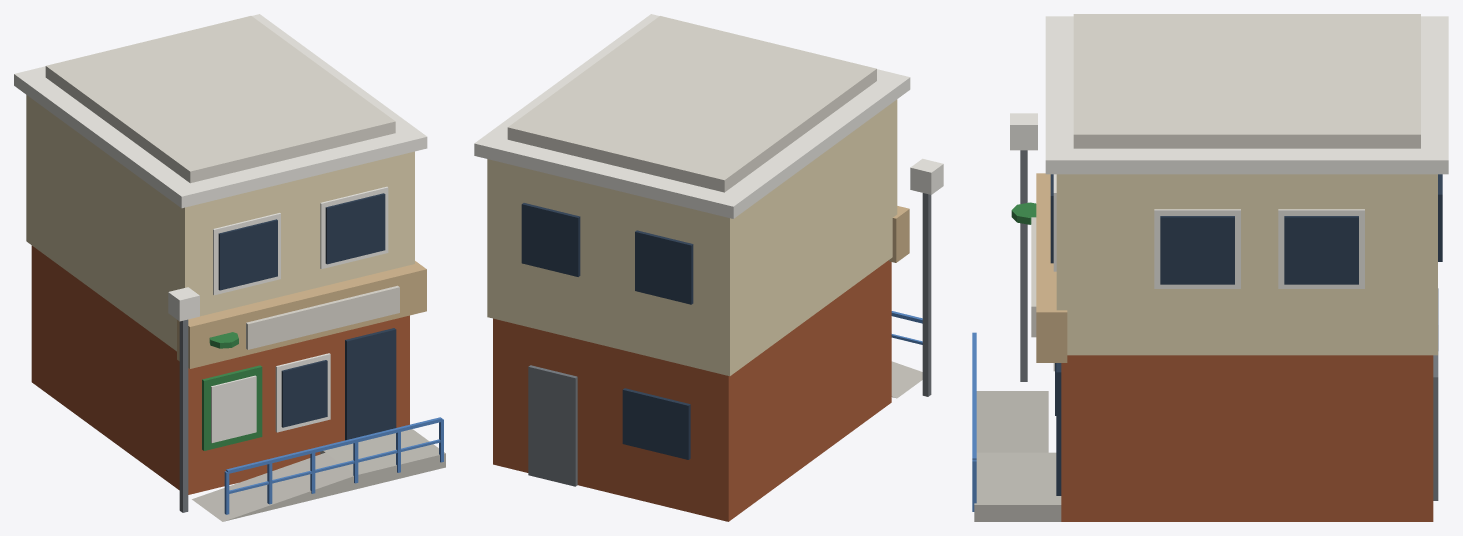
The model's file is LM_BarangayOutpost.glb.
The picture shows the model from 3 angles, left to right: view 1: azimuth 30°, elevation 25°; view 2: azimuth 150°, elevation 25°; view 3: azimuth 270°, elevation 25°; orthographic projection. The views are drawn at different scales.
Parts seen in each view (by area): view 1: LM_BarangayOutpost; view 2: LM_BarangayOutpost; view 3: LM_BarangayOutpost.
Boxes of the visible parts, x1,y1,x2,y2 form: LM_BarangayOutpost: (14,14,445,521); LM_BarangayOutpost: (474,14,943,521); LM_BarangayOutpost: (972,14,1448,521).
Bounding box in the file's own units: 5.88 × 6.8 × 7.69.
